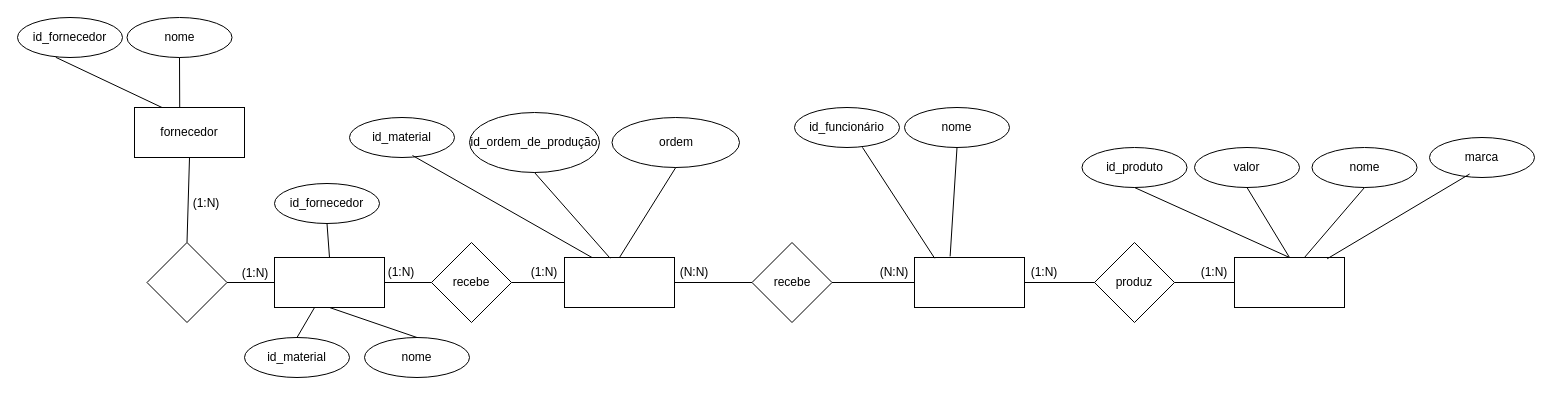
Some shapes in this 1552 by 395 pixel diagram are drawn without their labels. Each missing label, with the centre of its shape:
"fornece" goes at point 186,282.
"funcionário" goes at point 969,282.
"material" goes at point 329,282.
"ordem de produção" goes at point 619,282.
"produto" goes at point 1289,282.
